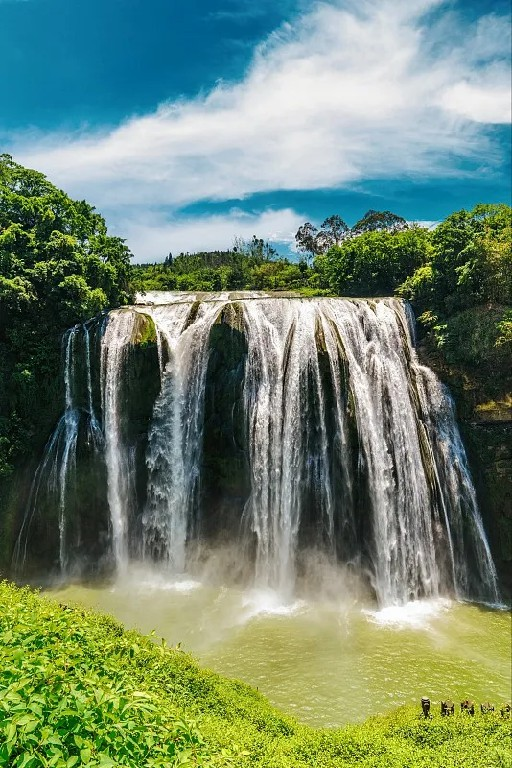Huangguoshu: (51, 290, 496, 600)
